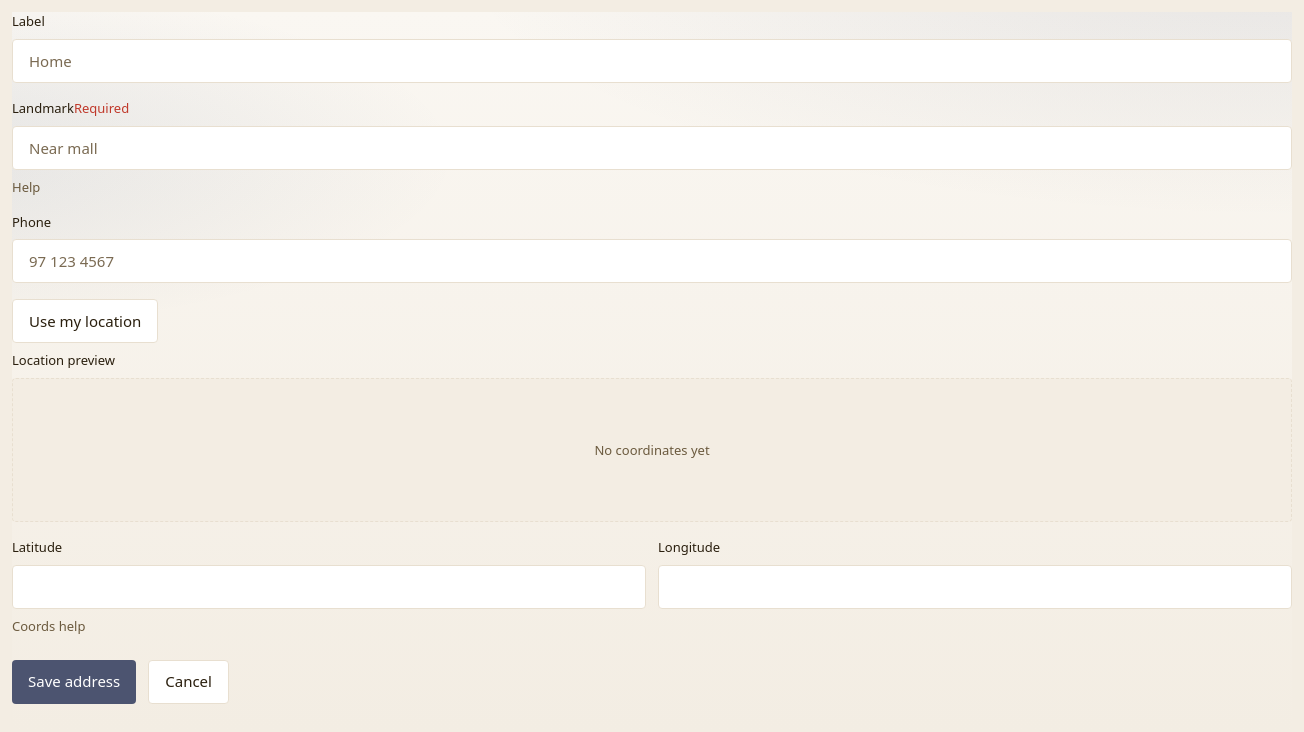
Test: AddressForm geolocation fallback › shows manual-entry fallback when geolocation is denied
Click the button "Use my location" at (85, 321), box left=12, top=299, right=158, bottom=343
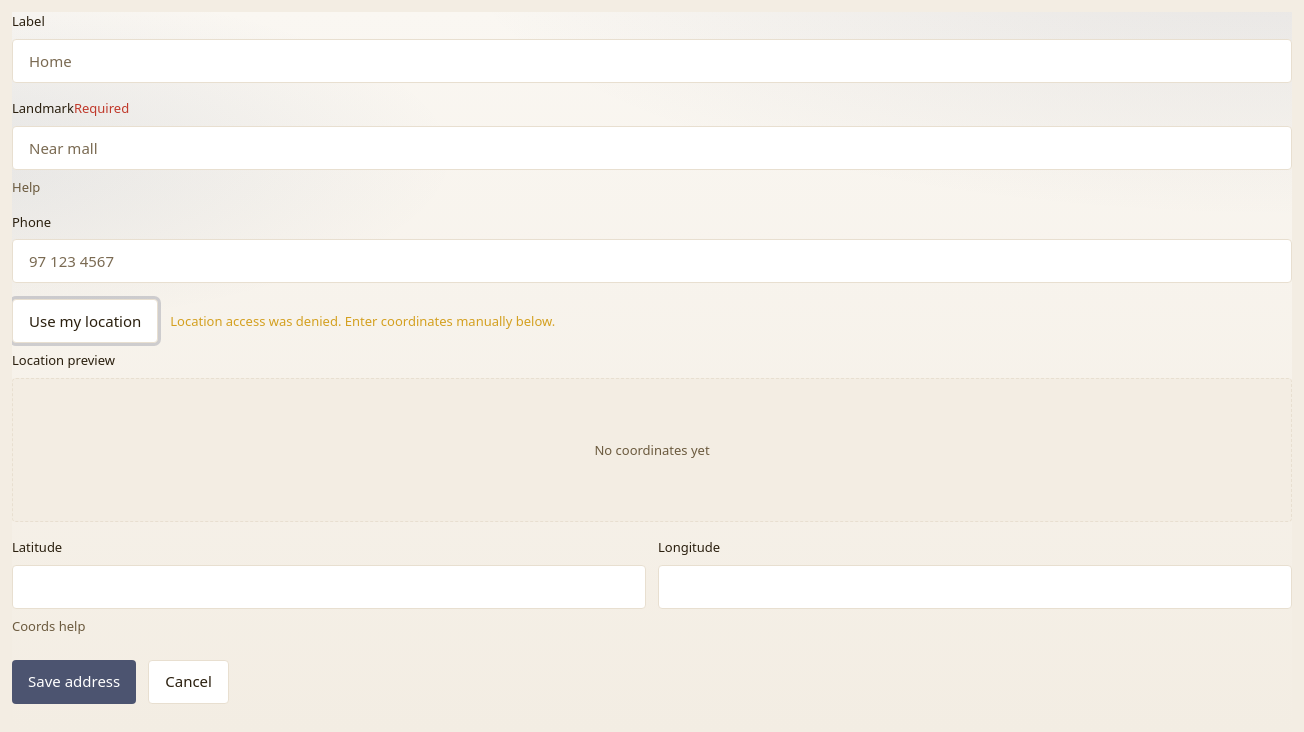
Expected: the field labelled "Latitude" is shown, left=12, top=565, right=646, bottom=609
Result: the text "Location access was denied. Enter coordinates manually below." is shown at left=170, top=312, right=555, bottom=331
